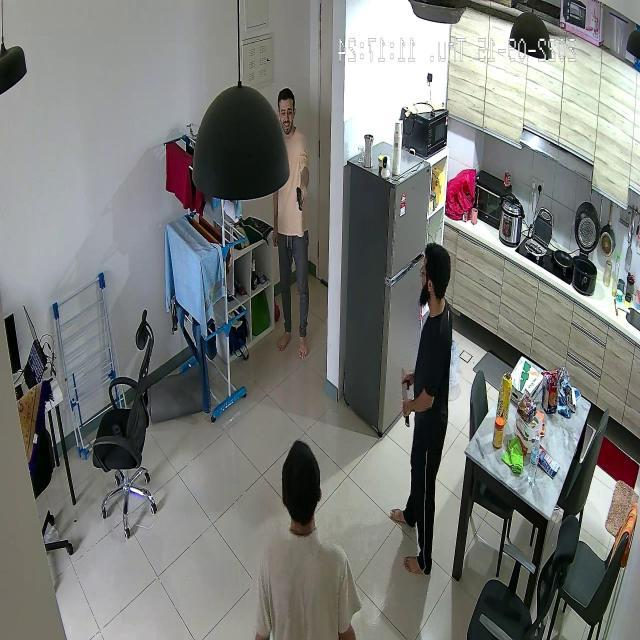Gun: (294, 186, 314, 222)
Knife: (393, 362, 414, 434)
